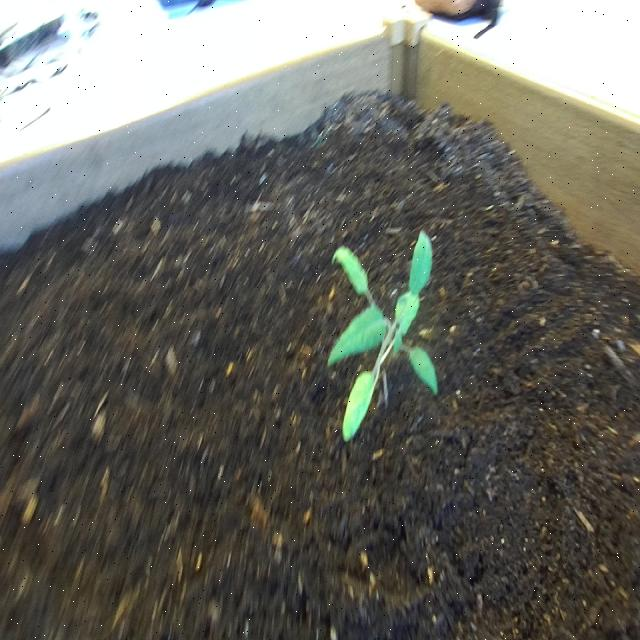Healthy: (320, 224, 446, 449)
